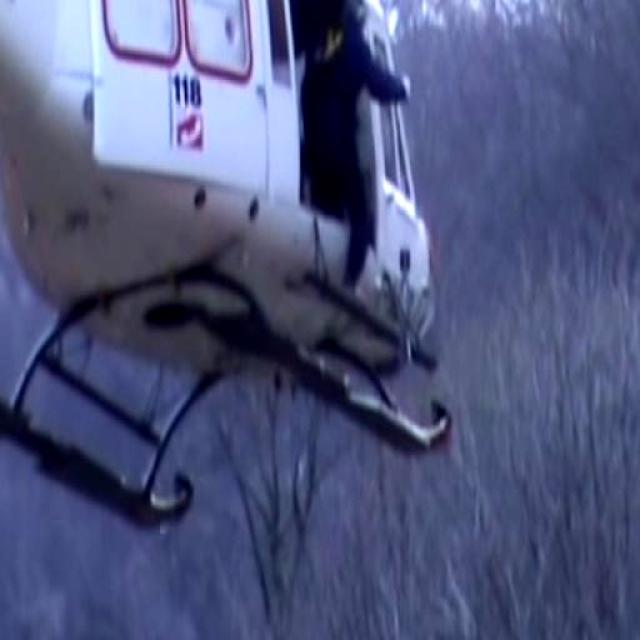drone: (0, 0, 491, 590)
